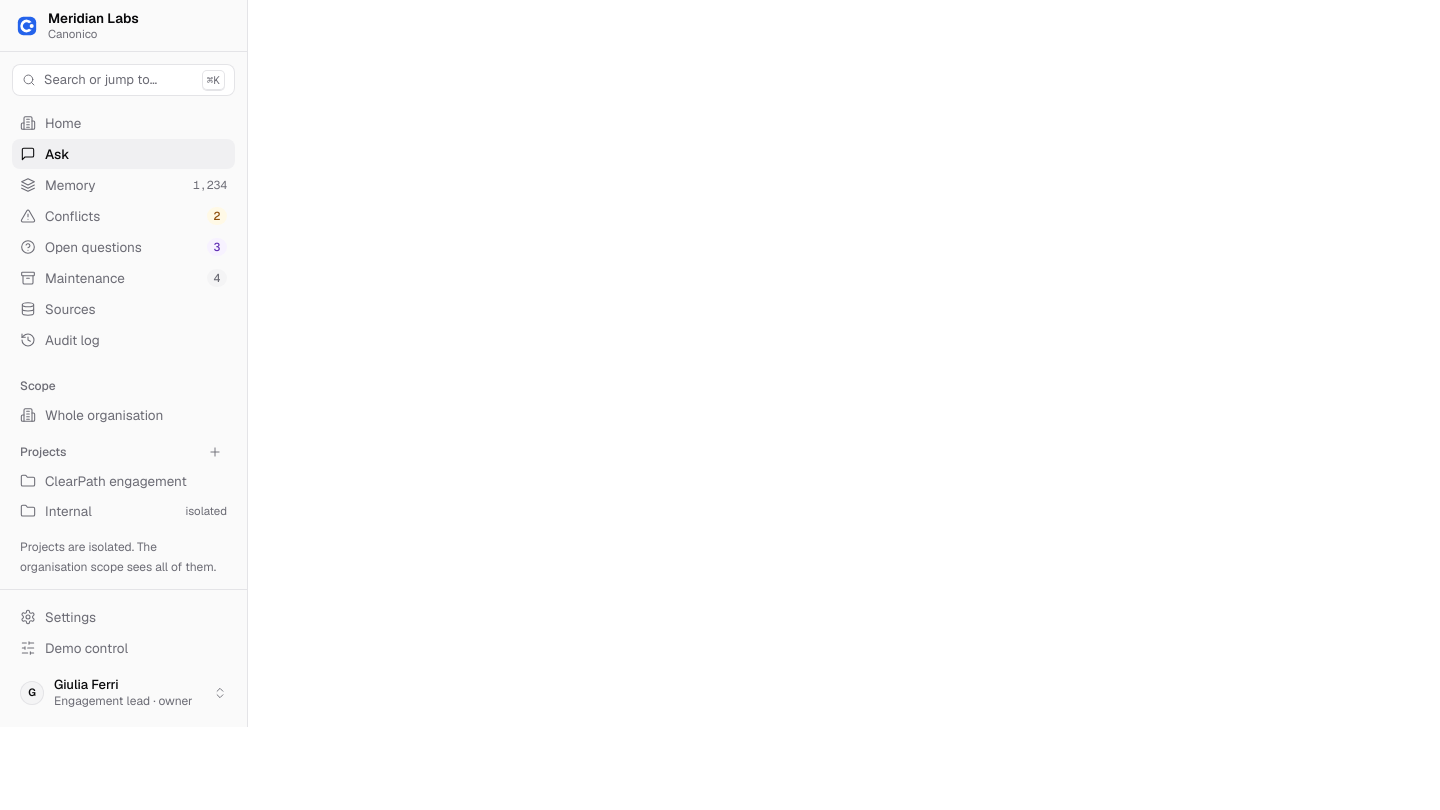
Scenario: Sidebar › new project › Cancel closes the dialog
Click the button named "New project": (215, 452) [203,440,227,464]
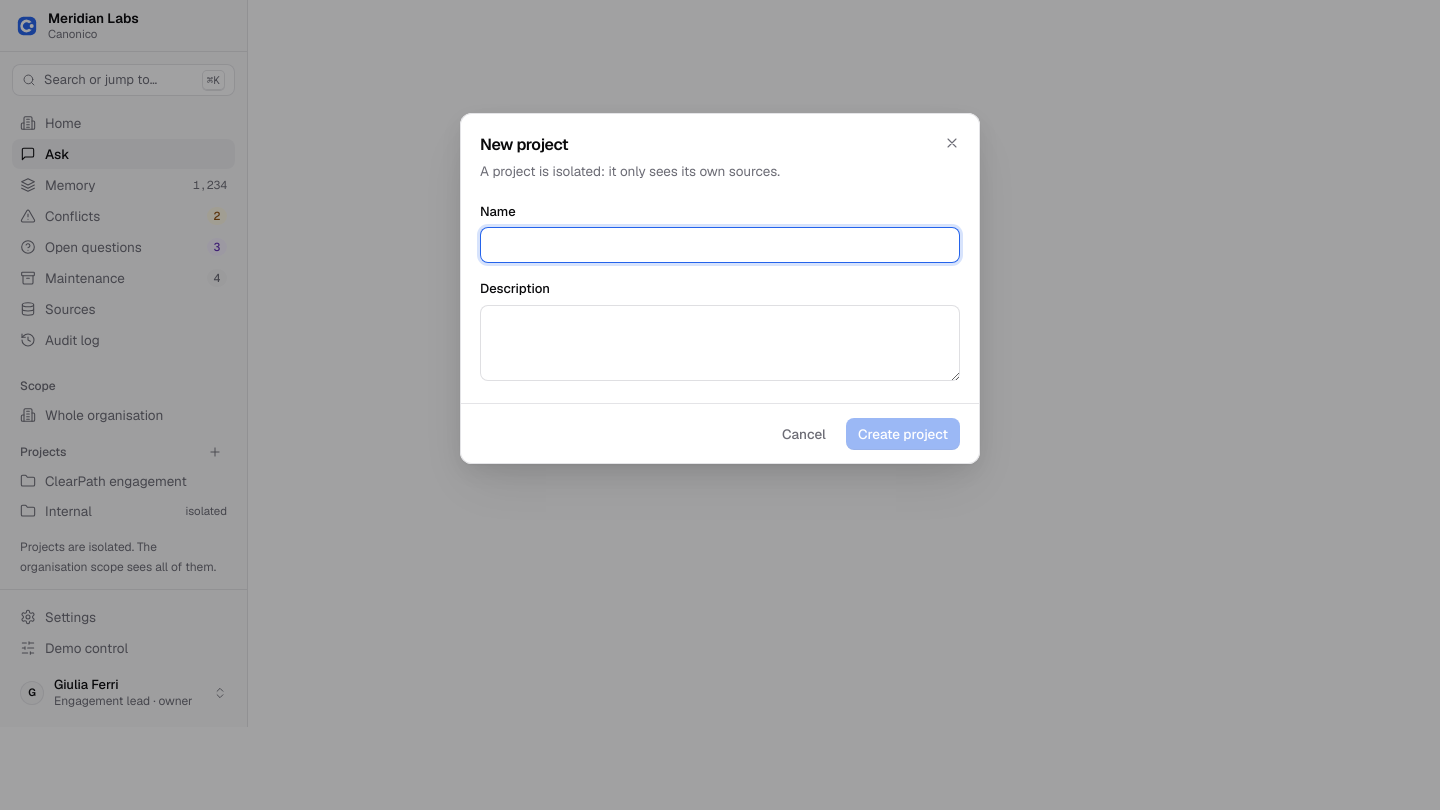
Click the button "Cancel": (804, 434) [770,418,838,450]
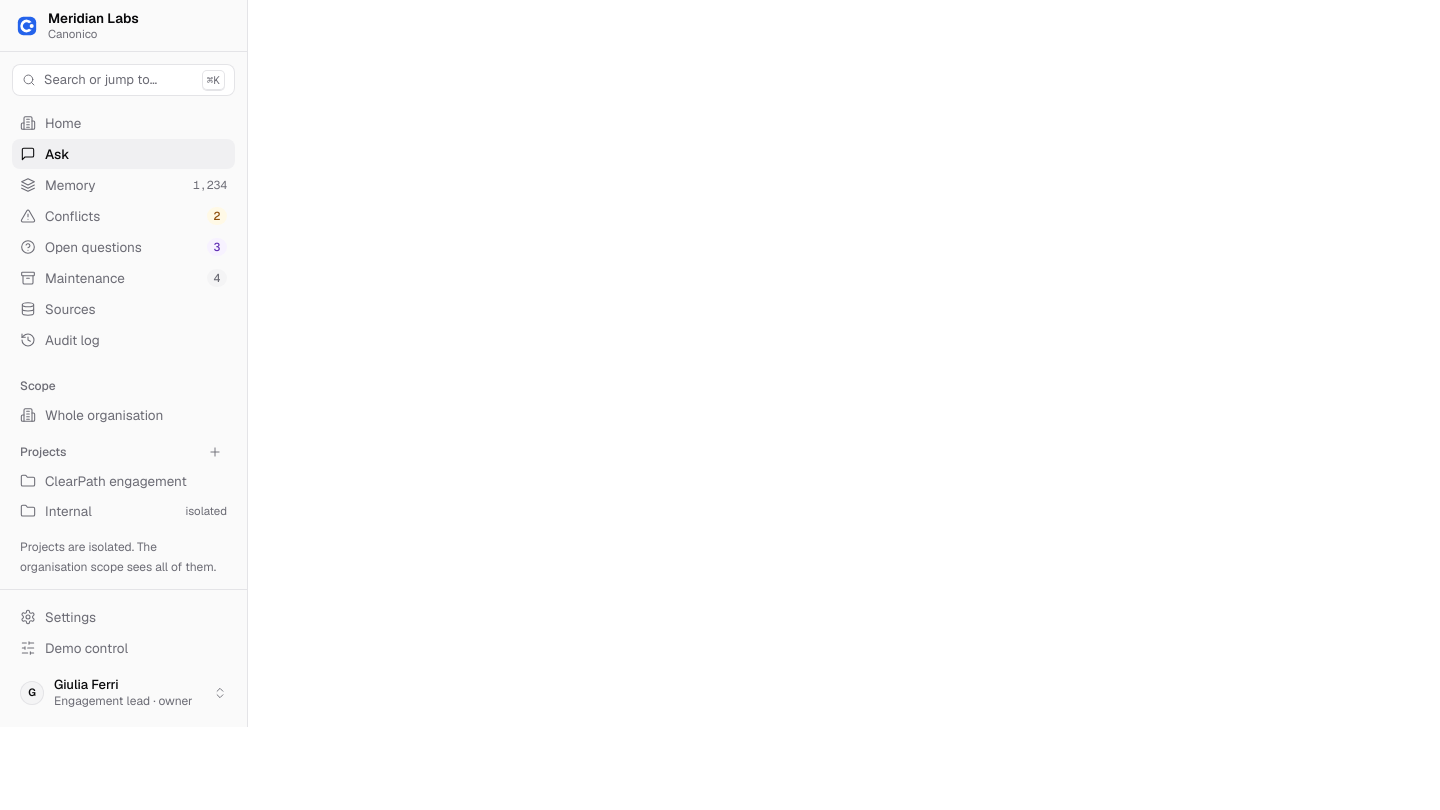
Now the dialog is gone
